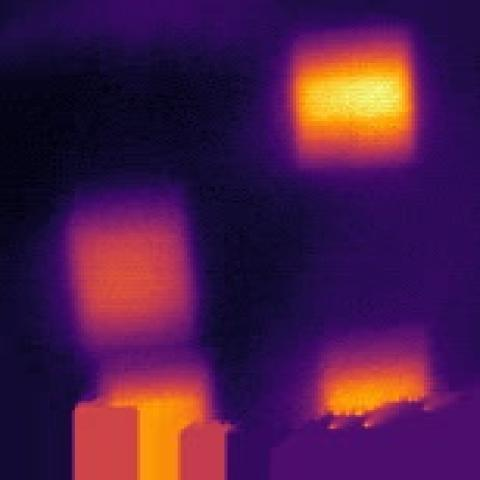fault: (59, 198, 206, 346), (280, 35, 424, 167), (99, 373, 208, 480), (301, 352, 447, 411)
